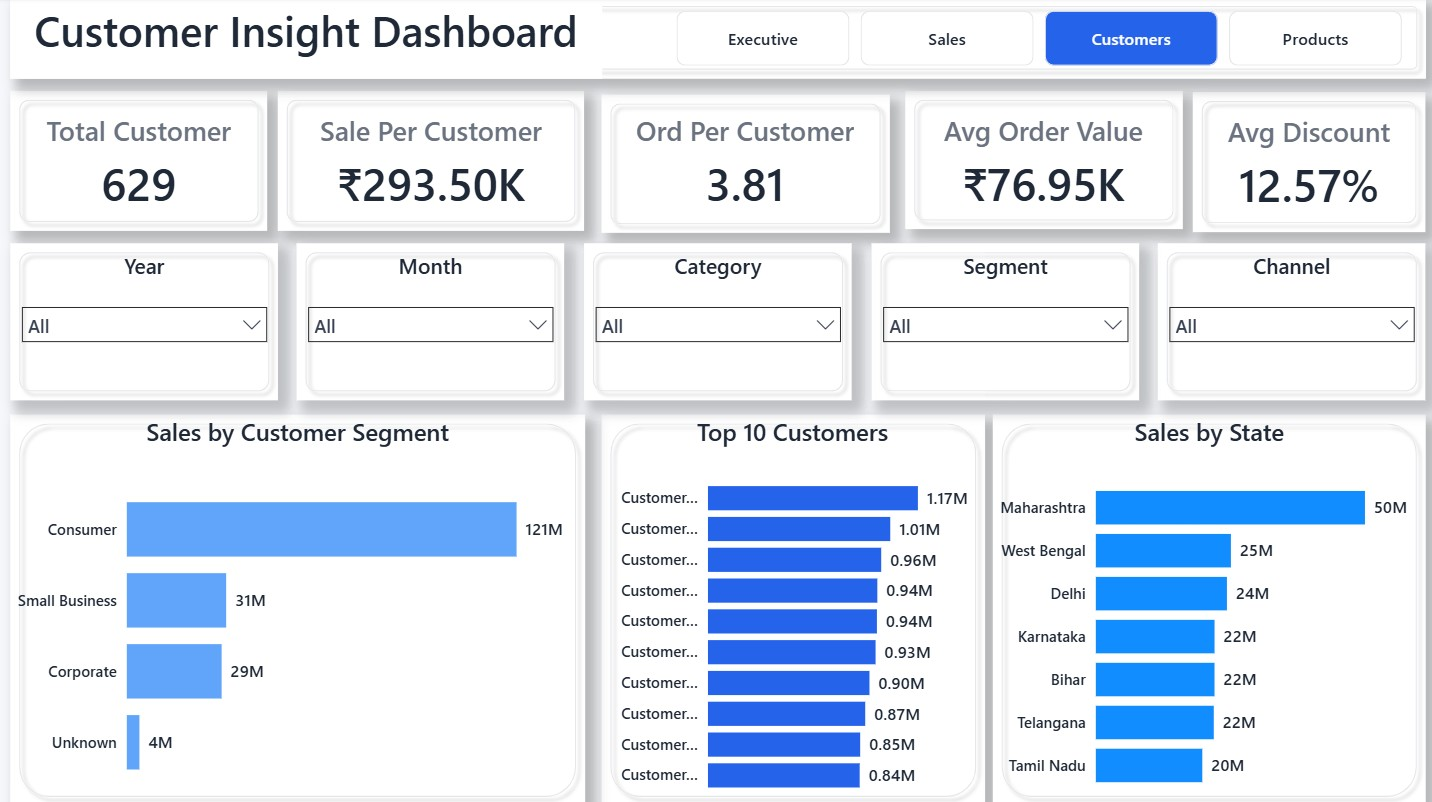

The dashboard page shown, as its layout file describes it:
{"tool":"powerbi","page":{"name":"Customers","canvas":[1280,720],"ordinal":2},"visuals":[{"type":"shape","box":[9.6,83.7,229.2,124.9],"z":0},{"type":"cardVisual","fields":{"Data":["MEASURE.total customers"]},"box":[9.6,86.4,229.2,122.1],"z":1000},{"type":"shape","box":[248.4,83.7,273.1,124.9],"z":2000},{"type":"shape","box":[536.5,86.4,256.6,123.5],"z":3000},{"type":"shape","box":[806.9,83.7,247,123.5],"z":4000},{"type":"shape","box":[1063.5,85.1,207.2,124.9],"z":5000},{"type":"cardVisual","fields":{"Data":["MEASURE.sale per customer"]},"box":[248.4,86.4,273.1,122.1],"z":6000},{"type":"cardVisual","fields":{"Data":["MEASURE.order per customer"]},"box":[536.5,86.4,256.6,122.1],"z":7000},{"type":"cardVisual","fields":{"Data":["MEASURE.average order value"]},"box":[806.9,86.4,247,122.1],"z":8000},{"type":"cardVisual","fields":{"Data":["MEASURE.average discount"]},"box":[1063.5,86.4,207.2,123.5],"z":9000},{"type":"shape","box":[9.6,0,1261.1,72.7],"z":10000},{"type":"shape","box":[536.5,371.9,341.7,348.5],"z":11000},{"type":"shape","box":[885.1,371.9,385.6,348.5],"z":12000},{"type":"shape","box":[9.6,371.9,511.8,348.5],"z":13000},{"type":"clusteredBarChart","title":"Top 10 Customers","fields":{"Y":["MEASURE.total sales"],"Category":["DIM_CUSTOMER.CUSTOMER_NAME"]},"box":[536.5,371.9,340.3,348.5],"z":14000},{"type":"clusteredBarChart","title":"Sales by State","fields":{"Y":["MEASURE.total sales"],"Category":["DIM_CUSTOMER.STATE"]},"box":[885.1,371.9,385.6,348.5],"z":15000},{"type":"shape","box":[9.6,219.6,238.8,140],"z":16000},{"type":"slicer","title":"Year","fields":{"Values":["DIM_DATE.YEAR"]},"box":[9.6,219.6,238.8,140],"z":17000},{"type":"textbox","box":[9.6,0,526.9,72.7],"z":18000},{"type":"shape","box":[264.8,219.6,238.8,140],"z":19000},{"type":"shape","box":[521.4,219.6,238.8,140],"z":20000},{"type":"shape","box":[776.7,219.6,238.8,140],"z":21000},{"type":"shape","box":[1031.9,219.6,238.8,140],"z":22000},{"type":"slicer","title":"Month","fields":{"Values":["DIM_DATE.MONTH_NUMBER"]},"box":[264.8,219.6,238.8,140],"z":23000},{"type":"slicer","title":"Category","fields":{"Values":["DIM_PRODUCT.CATEGORY"]},"box":[521.4,219.6,238.8,140],"z":24000},{"type":"slicer","title":"Segment","fields":{"Values":["DIM_CUSTOMER.CUSTOMER_SEGMENT"]},"box":[776.7,219.6,238.8,140],"z":25000},{"type":"slicer","title":"Channel","fields":{"Values":["FACT_SALES.CHANNEL"]},"box":[1031.9,219.6,238.8,140],"z":26000},{"type":"clusteredBarChart","title":"Sales by Customer Segment","fields":{"Y":["MEASURE.total sales"],"Category":["DIM_CUSTOMER.CUSTOMER_SEGMENT"]},"box":[9.6,371.9,511.8,348.5],"z":27000},{"type":"pageNavigator","box":[603.8,12.3,649.1,49.4],"z":28000}]}

Visuals, with their boxes in screenshot pixels (x1, y1, x2, y2), scaled from the page's 1280x720 canvas onto the 1432x802 screenshot:
shape: [11, 93, 267, 232]
cardVisual - MEASURE.total customers: [11, 96, 267, 232]
shape: [278, 93, 583, 232]
shape: [600, 96, 887, 234]
shape: [903, 93, 1179, 231]
shape: [1190, 95, 1422, 234]
cardVisual - MEASURE.sale per customer: [278, 96, 583, 232]
cardVisual - MEASURE.order per customer: [600, 96, 887, 232]
cardVisual - MEASURE.average order value: [903, 96, 1179, 232]
cardVisual - MEASURE.average discount: [1190, 96, 1422, 234]
shape: [11, 0, 1422, 81]
shape: [600, 414, 982, 801]
shape: [990, 414, 1422, 801]
shape: [11, 414, 583, 801]
"Top 10 Customers" clusteredBarChart: [600, 414, 981, 801]
"Sales by State" clusteredBarChart: [990, 414, 1422, 801]
shape: [11, 245, 278, 401]
"Year" slicer: [11, 245, 278, 401]
textbox: [11, 0, 600, 81]
shape: [296, 245, 563, 401]
shape: [583, 245, 850, 401]
shape: [869, 245, 1136, 401]
shape: [1154, 245, 1422, 401]
"Month" slicer: [296, 245, 563, 401]
"Category" slicer: [583, 245, 850, 401]
"Segment" slicer: [869, 245, 1136, 401]
"Channel" slicer: [1154, 245, 1422, 401]
"Sales by Customer Segment" clusteredBarChart: [11, 414, 583, 801]
pageNavigator: [676, 14, 1402, 69]
